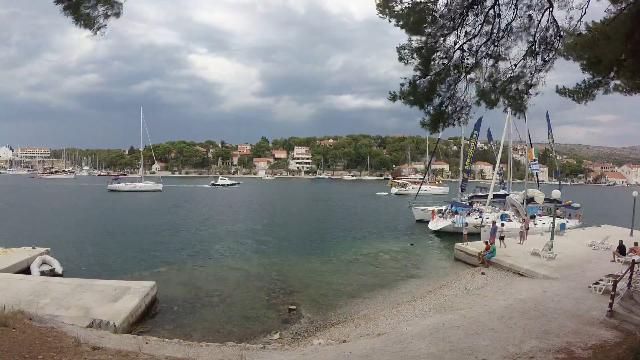Freighter: (36, 165, 80, 182)
Sailboat: (386, 174, 454, 198), (102, 173, 168, 194)
speedboat: (206, 172, 248, 190), (260, 172, 278, 182)
